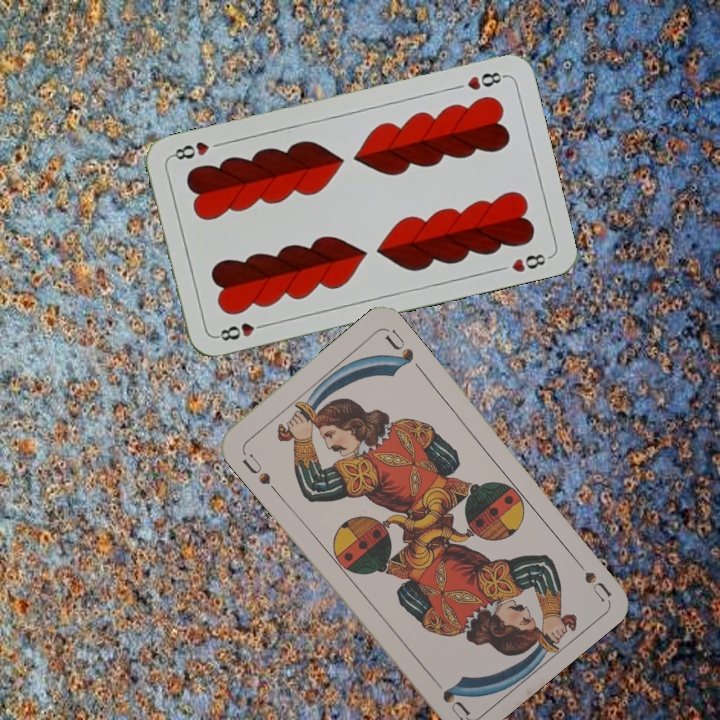H8: (212, 318, 270, 344), (463, 68, 508, 93)
SU: (567, 551, 613, 603), (238, 447, 281, 496)
